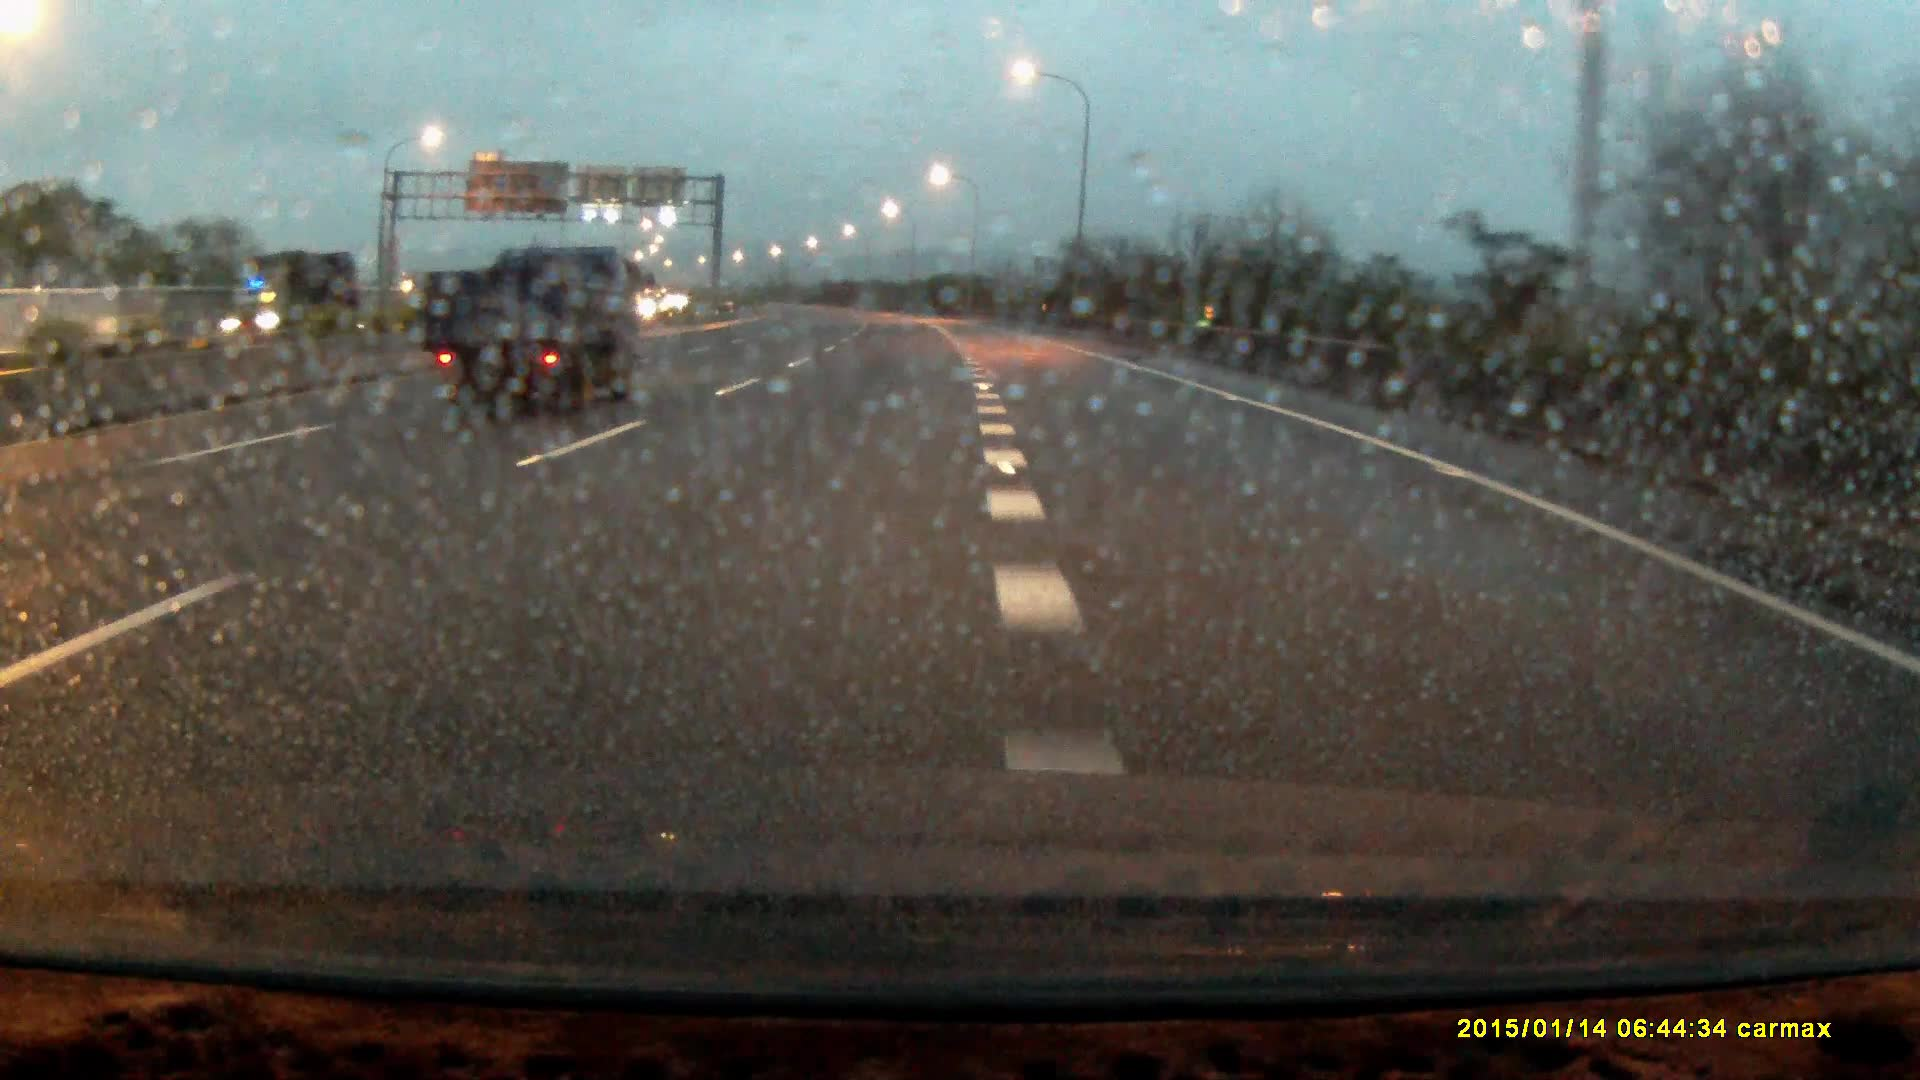vehicle: (419, 244, 636, 417), (210, 258, 357, 345)
